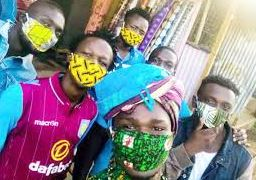with_facemask: (111, 120, 174, 169), (63, 48, 113, 89), (19, 16, 63, 49), (195, 100, 231, 129), (121, 23, 146, 49)
